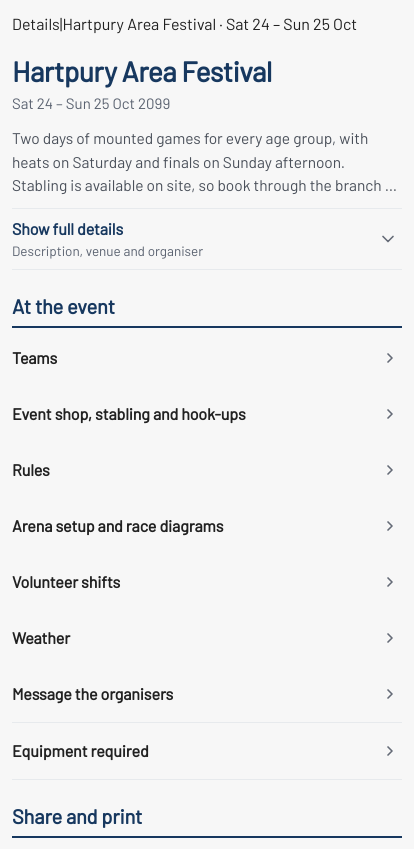
DetailsTab › shortens a long description to three lines until Show full details is opened
The image size is (414, 849).
Click the button "Show full details Description, venue and organiser" at (68, 229), box x1=12 y1=209 x2=402 y2=269
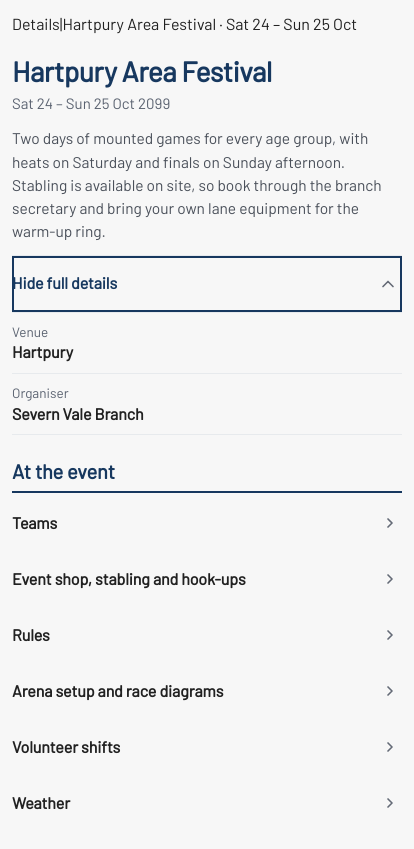
Result: the button "Hide full details" is expanded at x1=12 y1=256 x2=402 y2=312
